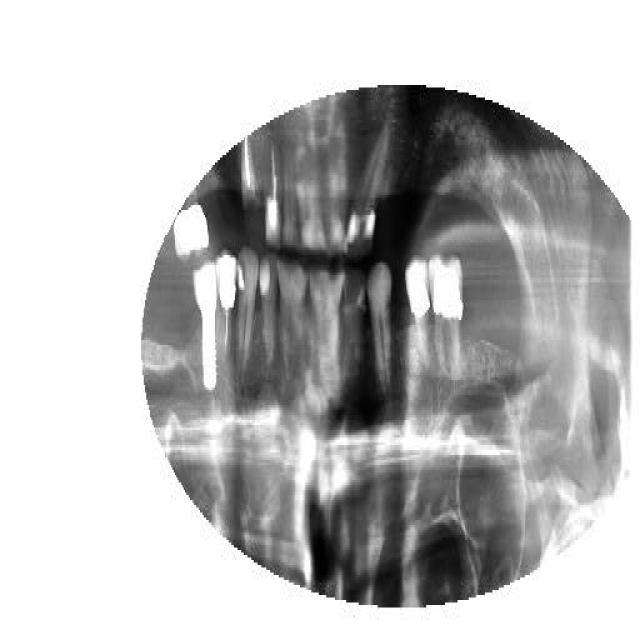Cavity: (344, 123, 388, 265), (238, 138, 262, 228)
Fillings: (426, 255, 465, 383), (404, 250, 430, 370), (171, 192, 210, 258)
Implant: (190, 258, 219, 392), (216, 250, 238, 362), (262, 140, 282, 250)
